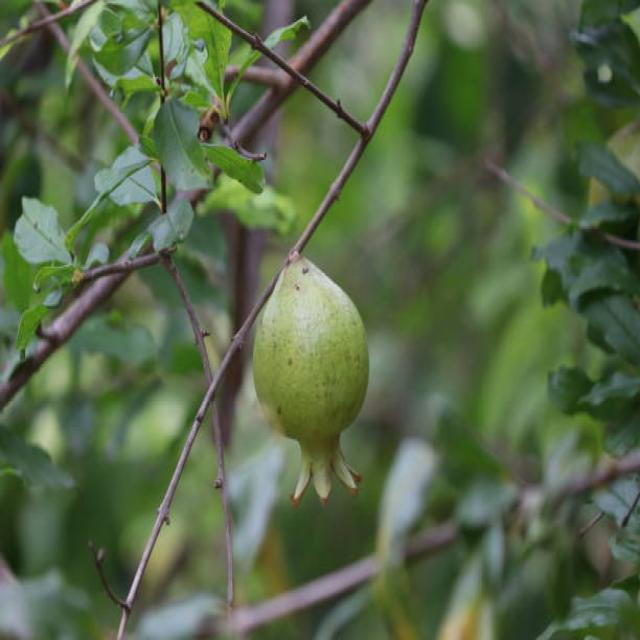Unripe: (254, 251, 370, 509)
